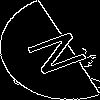N: (25, 25, 100, 78)
